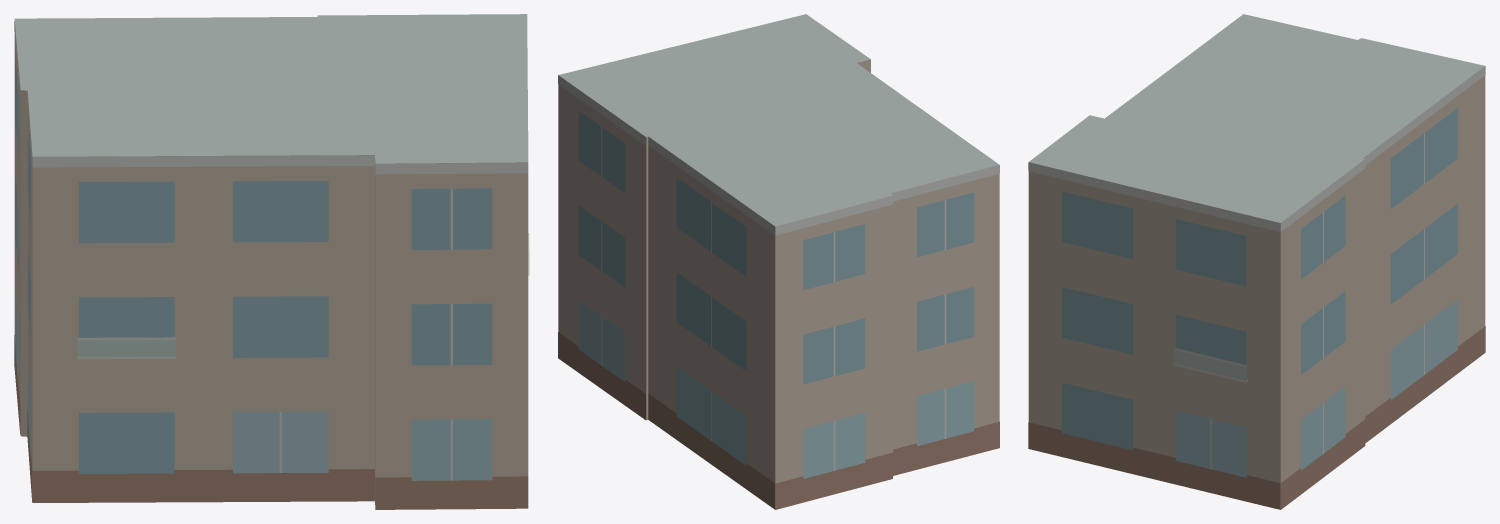
Rendered from survey-upis-32655129.glb.
The picture shows the model from 3 angles, left to right: view 1: azimuth 30°, elevation 25°; view 2: azimuth 150°, elevation 25°; view 3: azimuth 270°, elevation 25°; orthographic projection. The views are drawn at different scales.
Visible parts, largest first — view 1: survey-upis-32655129.tmp; view 2: survey-upis-32655129.tmp; view 3: survey-upis-32655129.tmp.
Boxes of the visible parts, x1=… form: survey-upis-32655129.tmp: x1=14, y1=14, x2=529, y2=509; survey-upis-32655129.tmp: x1=558, y1=14, x2=999, y2=509; survey-upis-32655129.tmp: x1=1028, y1=14, x2=1485, y2=509.
Size of the model in its own units: 12.13 by 7.75 by 11.2.
